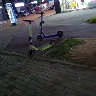beam: (34, 11, 65, 42)
gcooter: (20, 18, 58, 57)
